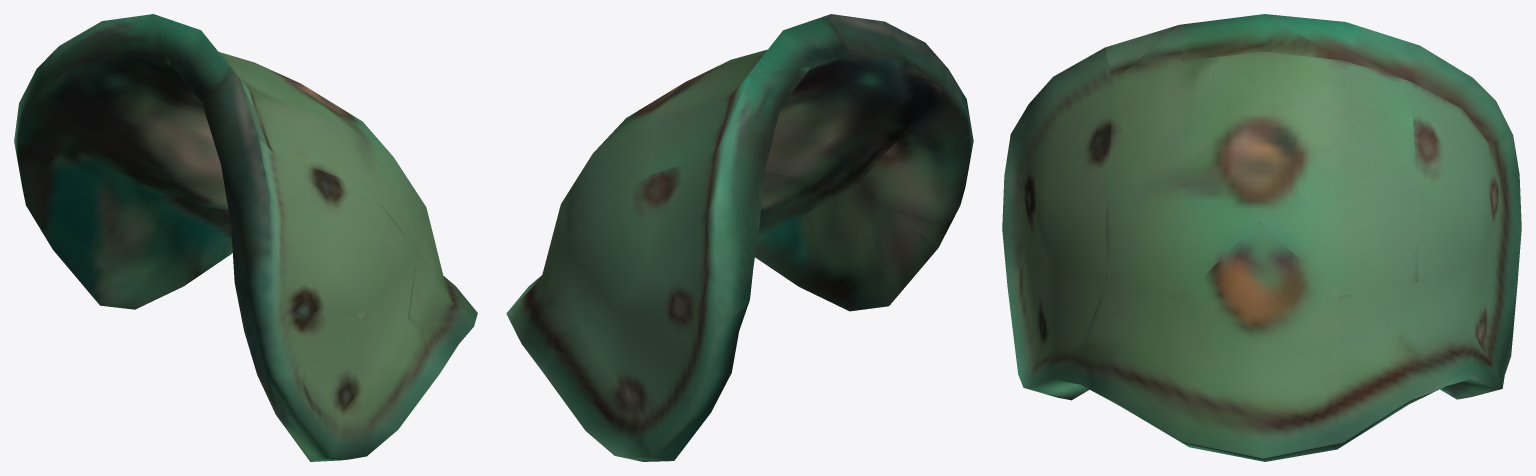
File: shoulder-jade.glb
3 renders of one model, left to right at view 1: azimuth 30°, elevation 25°; view 2: azimuth 150°, elevation 25°; view 3: azimuth 270°, elevation 25°, orthographic.
Visible parts, largest first — view 1: shoulder-jade; view 2: shoulder-jade; view 3: shoulder-jade.
Part boxes in pixels (x1,y1,x2,y2): shoulder-jade: (14,14,477,461); shoulder-jade: (506,14,973,461); shoulder-jade: (1002,14,1521,461).
Size of the model in its own units: 0.3516 by 0.3718 by 0.4785.
1 material, 1 textured.
